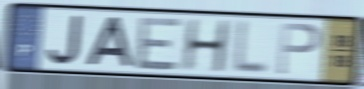A: (82, 15, 135, 69)
E: (133, 16, 185, 71)
H: (179, 18, 232, 75)
J: (45, 13, 86, 67)
L: (230, 18, 271, 77)
P: (275, 21, 323, 77)
